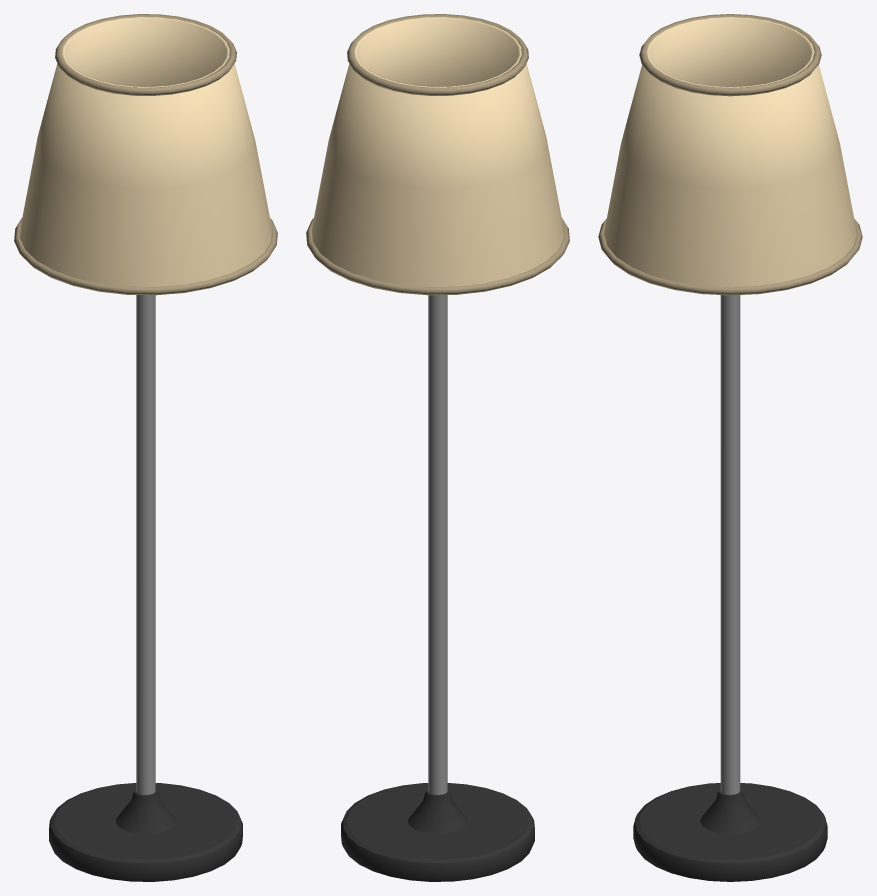
File: lamp.fbx
The picture shows the model from 3 angles, left to right: view 1: azimuth 30°, elevation 25°; view 2: azimuth 150°, elevation 25°; view 3: azimuth 270°, elevation 25°; orthographic projection.
Visible parts, largest first — view 1: Floor Lamp; view 2: Floor Lamp; view 3: Floor Lamp.
Part boxes in pixels (x1,y1,x2,y2): Floor Lamp: (14, 14, 277, 881); Floor Lamp: (306, 14, 569, 881); Floor Lamp: (598, 14, 862, 881).
Bounding box in the file's own units: 0.87 × 2.87 × 0.87.
